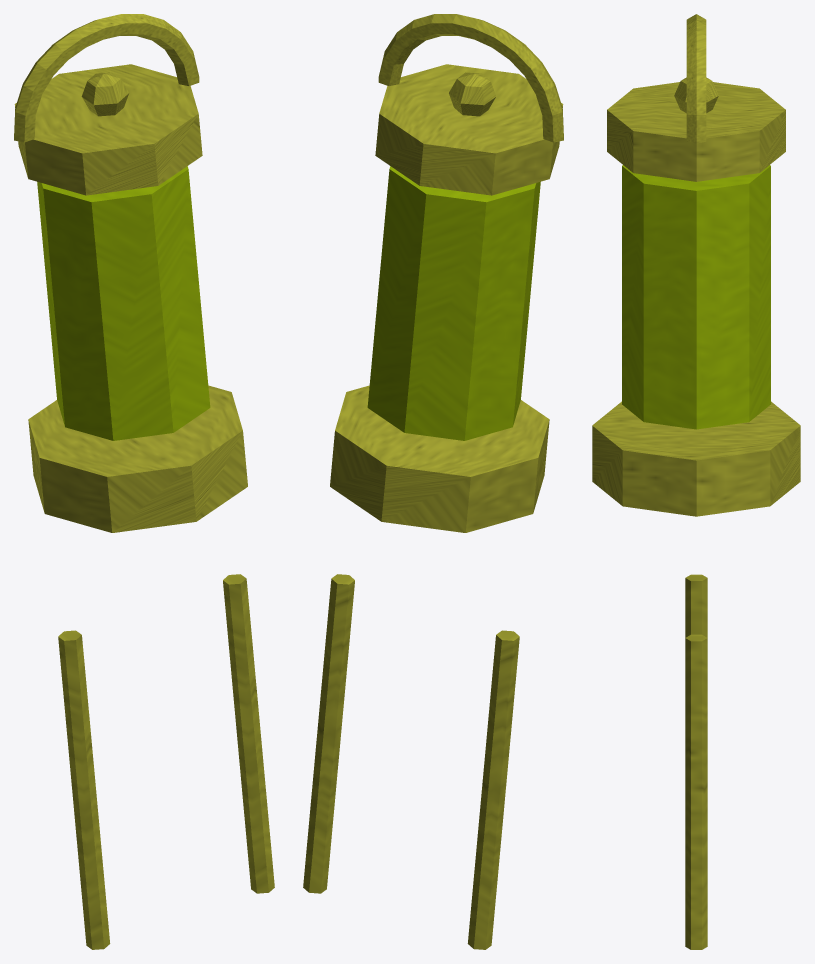
The model's file is lantern.glb.
3 renders of one model, left to right at view 1: azimuth 30°, elevation 25°; view 2: azimuth 150°, elevation 25°; view 3: azimuth 270°, elevation 25°, orthographic. The views are drawn at different scales.
Parts seen in each view (by area): view 1: Lantern_Glass, Lantern_Base, Lantern_Cap, Lantern_Post_L, Lantern_Post_R, Lantern_Handle, Lantern_Knob; view 2: Lantern_Glass, Lantern_Base, Lantern_Cap, Lantern_Post_L, Lantern_Post_R, Lantern_Handle, Lantern_Knob; view 3: Lantern_Glass, Lantern_Base, Lantern_Cap, Lantern_Post_R, Lantern_Handle, Lantern_Post_L, Lantern_Knob.
Part boxes in pixels (bbox=[...]): Lantern_Glass: bbox=[37, 166, 210, 440]; Lantern_Base: bbox=[28, 385, 247, 532]; Lantern_Cap: bbox=[14, 64, 202, 195]; Lantern_Post_L: bbox=[58, 630, 110, 949]; Lantern_Post_R: bbox=[223, 574, 274, 893]; Lantern_Handle: bbox=[14, 14, 199, 142]; Lantern_Knob: bbox=[81, 72, 128, 116]; Lantern_Glass: bbox=[367, 166, 540, 440]; Lantern_Base: bbox=[330, 385, 549, 532]; Lantern_Cap: bbox=[375, 64, 563, 195]; Lantern_Post_L: bbox=[467, 630, 519, 949]; Lantern_Post_R: bbox=[303, 574, 354, 893]; Lantern_Handle: bbox=[378, 14, 563, 142]; Lantern_Knob: bbox=[449, 72, 496, 116]; Lantern_Glass: bbox=[622, 165, 770, 429]; Lantern_Base: bbox=[592, 401, 800, 516]; Lantern_Cap: bbox=[607, 82, 785, 181]; Lantern_Post_R: bbox=[685, 634, 707, 949]; Lantern_Handle: bbox=[686, 14, 706, 143]; Lantern_Post_L: bbox=[685, 574, 707, 637]; Lantern_Knob: bbox=[674, 77, 718, 113].
Size of the model in its own units: 0.3741 by 1.28 by 0.28.
Materials: 3 (3 with a texture image).
